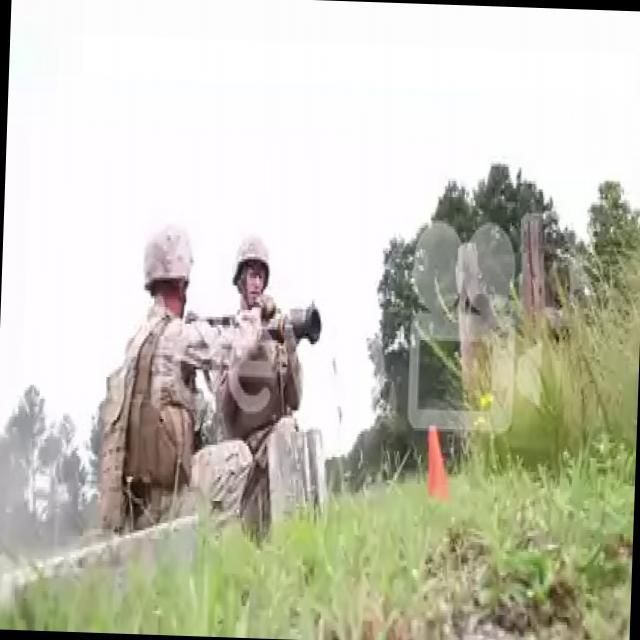rocket: (268, 307, 324, 343)
